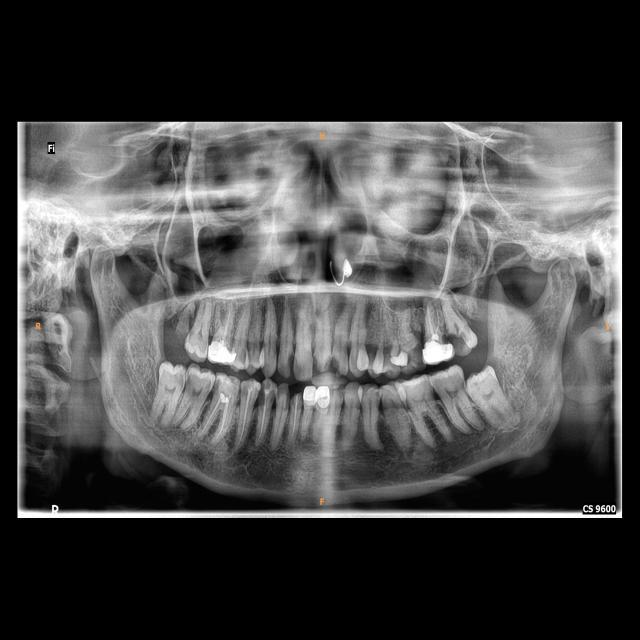dentin-curugu: (450, 334, 472, 354), (407, 346, 423, 369), (328, 355, 342, 373)
dolgu: (390, 349, 409, 368)
kanal-tedavisi: (205, 398, 231, 440), (236, 391, 255, 444), (422, 305, 442, 337), (287, 403, 302, 437), (256, 411, 269, 442)
kaplama: (207, 342, 238, 364), (422, 342, 454, 362), (302, 387, 318, 407), (317, 386, 331, 408)
